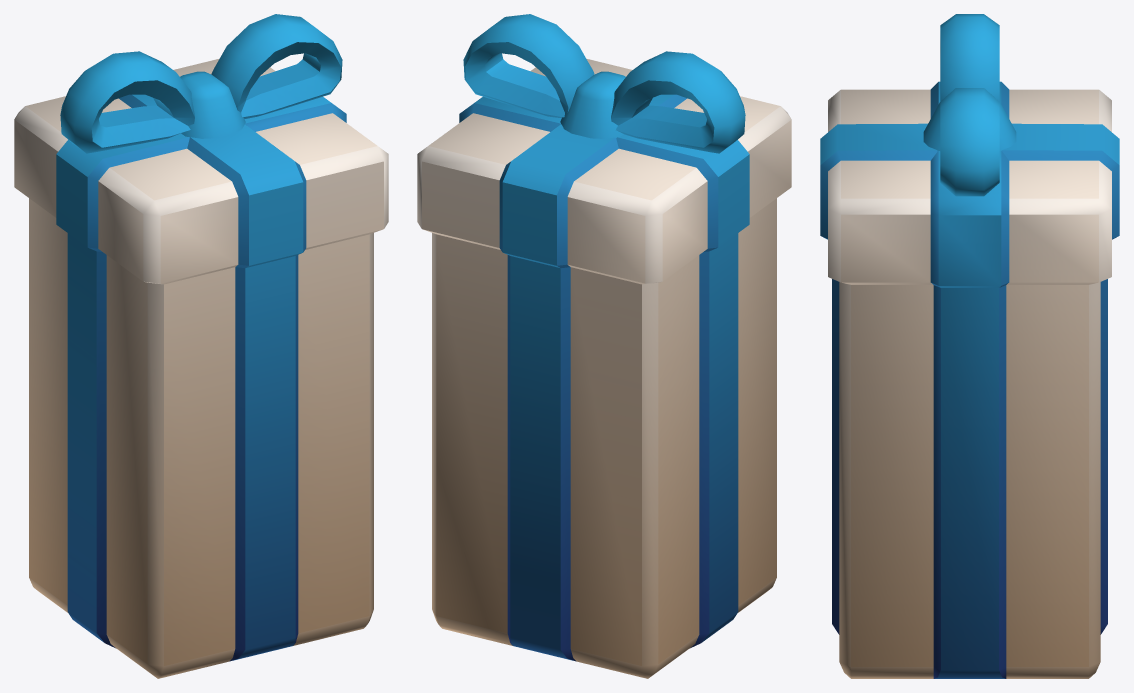
File: present_B_white.obj
3 renders of one model, left to right at view 1: azimuth 30°, elevation 25°; view 2: azimuth 150°, elevation 25°; view 3: azimuth 270°, elevation 25°, orthographic.
Visible parts, largest first — view 1: present_B_white; view 2: present_B_white; view 3: present_B_white.
Boxes of the visible parts, x1=… form: present_B_white: x1=14, y1=14, x2=388, y2=678; present_B_white: x1=417, y1=14, x2=791, y2=678; present_B_white: x1=820, y1=14, x2=1119, y2=678.
Bounding box in the file's own units: 0.5215 × 1.06 × 0.5038.
Materials: 1 (1 with a texture image).
